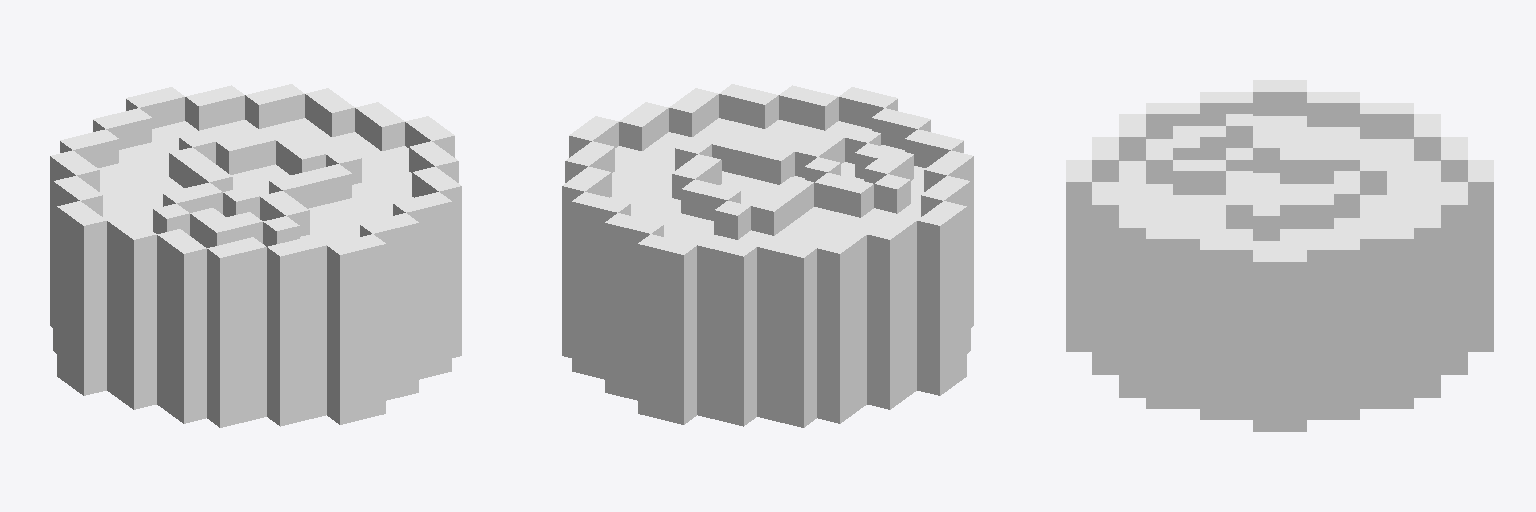
The model's file is Can.obj.
3 views of the same model, side by side, from view 1: azimuth 30°, elevation 25°; view 2: azimuth 150°, elevation 25°; view 3: azimuth 270°, elevation 25° (orthographic).
Visible parts, largest first — view 1: object 1; view 2: object 1; view 3: object 1.
Part boxes in pixels (x1,y1,x2,y2): object 1: (50,84,461,427); object 1: (562,84,973,427); object 1: (1066,80,1493,431).
Size of the model in its own units: 1.6 by 0.7 by 1.6.